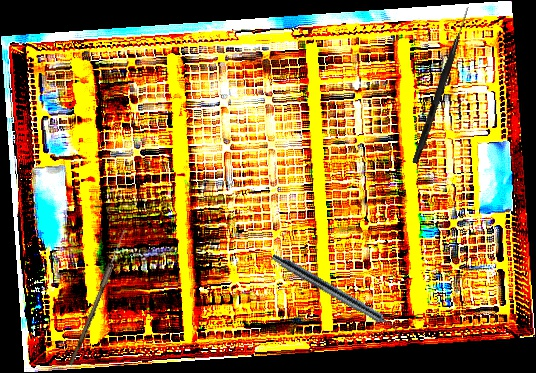Handpiece: (268, 251, 407, 339)
Hook Surgical: (412, 5, 471, 165)
Surgical Spoon: (68, 228, 128, 367)
